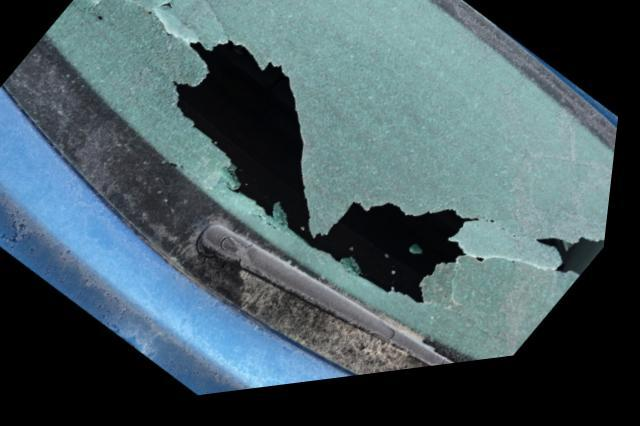glass shatter: (3, 0, 622, 386)
